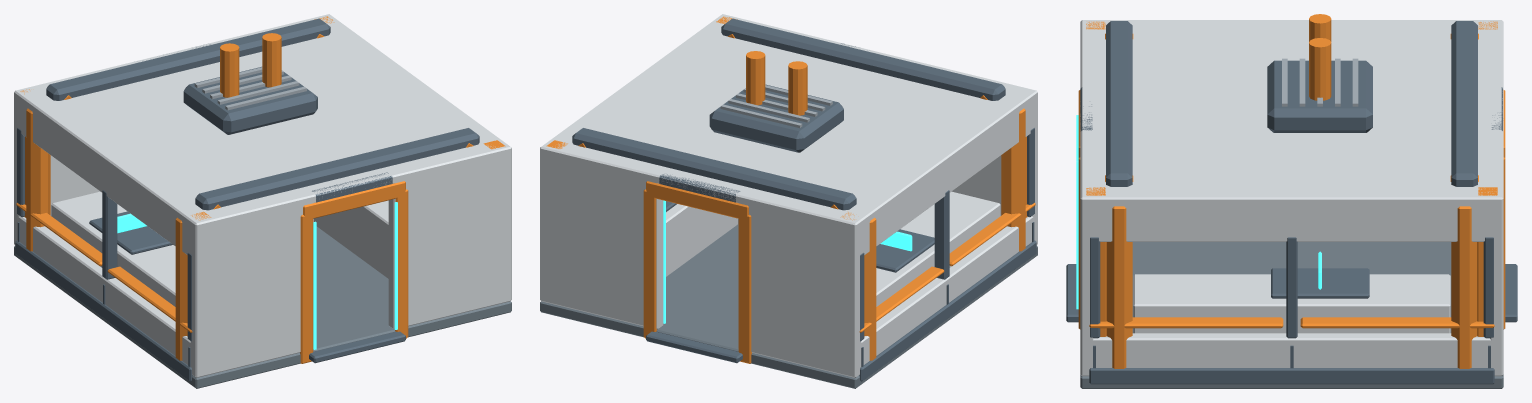
Rendered from room-ResearchRoom.fbx.
3 renders of one model, left to right at view 1: azimuth 30°, elevation 25°; view 2: azimuth 150°, elevation 25°; view 3: azimuth 270°, elevation 25°, orthographic. The views are drawn at different scales.
Parts seen in each view (by area): view 1: room-ResearchRoom_Roof.001, room-ResearchRoom_End panel.005, room-ResearchRoom_End panel.004, room-ResearchRoom_Deck.001, room-ResearchRoom_Window sill.002, room-ResearchRoom_Roof cross brace, room-ResearchRoom_Window head.002, room-ResearchRoom_Roof cross brace.001, room-ResearchRoom_Station.002, room-ResearchRoom_Roof service pod, room-ResearchRoom_Station.003, room-ResearchRoom_Lower armour band (+19 smaller); view 2: room-ResearchRoom_Roof.001, room-ResearchRoom_End panel.007, room-ResearchRoom_End panel.006, room-ResearchRoom_Deck.001, room-ResearchRoom_Roof cross brace, room-ResearchRoom_Roof cross brace.001, room-ResearchRoom_Window sill.002, room-ResearchRoom_Window head.002, room-ResearchRoom_Roof service pod, room-ResearchRoom_Station.002, room-ResearchRoom_Station.003, room-ResearchRoom_Lower armour band (+18 smaller); view 3: room-ResearchRoom_Roof.001, room-ResearchRoom_Window head.003, room-ResearchRoom_Station.003, room-ResearchRoom_Window sill.003, room-ResearchRoom_Deck.001, room-ResearchRoom_Lower armour band.001, room-ResearchRoom_Roof service pod, room-ResearchRoom_Roof cross brace, room-ResearchRoom_Roof cross brace.001, room-ResearchRoom_Armoured corner post.003, room-ResearchRoom_Armoured corner post.001, room-ResearchRoom_Console.003 (+16 smaller).
Boxes of the visible parts, x1,y1,x2,y2 form: room-ResearchRoom_Roof.001: (14, 14, 511, 230); room-ResearchRoom_End panel.005: (388, 153, 511, 329); room-ResearchRoom_End panel.004: (190, 202, 313, 377); room-ResearchRoom_Deck.001: (14, 226, 511, 388); room-ResearchRoom_Window sill.002: (14, 214, 204, 377); room-ResearchRoom_Roof cross brace: (195, 128, 479, 210); room-ResearchRoom_Window head.002: (14, 98, 204, 260); room-ResearchRoom_Roof cross brace.001: (46, 18, 330, 100); room-ResearchRoom_Station.002: (51, 191, 175, 306); room-ResearchRoom_Roof service pod: (183, 66, 317, 134); room-ResearchRoom_Station.003: (314, 200, 388, 278); room-ResearchRoom_Lower armour band: (15, 240, 192, 381); room-ResearchRoom_Roof.001: (540, 14, 1037, 230); room-ResearchRoom_End panel.007: (540, 153, 663, 329); room-ResearchRoom_End panel.006: (738, 202, 861, 377); room-ResearchRoom_Deck.001: (540, 224, 1037, 388); room-ResearchRoom_Roof cross brace: (721, 18, 1005, 100); room-ResearchRoom_Roof cross brace.001: (572, 128, 856, 210); room-ResearchRoom_Window sill.002: (856, 214, 1037, 376); room-ResearchRoom_Window head.002: (847, 98, 1037, 259); room-ResearchRoom_Roof service pod: (709, 84, 843, 152); room-ResearchRoom_Station.002: (876, 191, 1000, 306); room-ResearchRoom_Station.003: (666, 204, 737, 276); room-ResearchRoom_Lower armour band: (859, 240, 1036, 381); room-ResearchRoom_Roof.001: (1080, 20, 1503, 206); room-ResearchRoom_Window head.003: (1080, 205, 1503, 241); room-ResearchRoom_Station.003: (1133, 274, 1450, 333); room-ResearchRoom_Window sill.003: (1082, 333, 1503, 376); room-ResearchRoom_Deck.001: (1080, 242, 1503, 388); room-ResearchRoom_Lower armour band.001: (1089, 368, 1494, 384); room-ResearchRoom_Roof service pod: (1267, 60, 1372, 132); room-ResearchRoom_Roof cross brace: (1106, 21, 1132, 186); room-ResearchRoom_Roof cross brace.001: (1451, 21, 1477, 186); room-ResearchRoom_Armoured corner post.003: (1451, 206, 1477, 368); room-ResearchRoom_Armoured corner post.001: (1106, 206, 1132, 368); room-ResearchRoom_Console.003: (1271, 268, 1369, 298).
Bounding box in the file's own units: 610 × 422 × 640.
